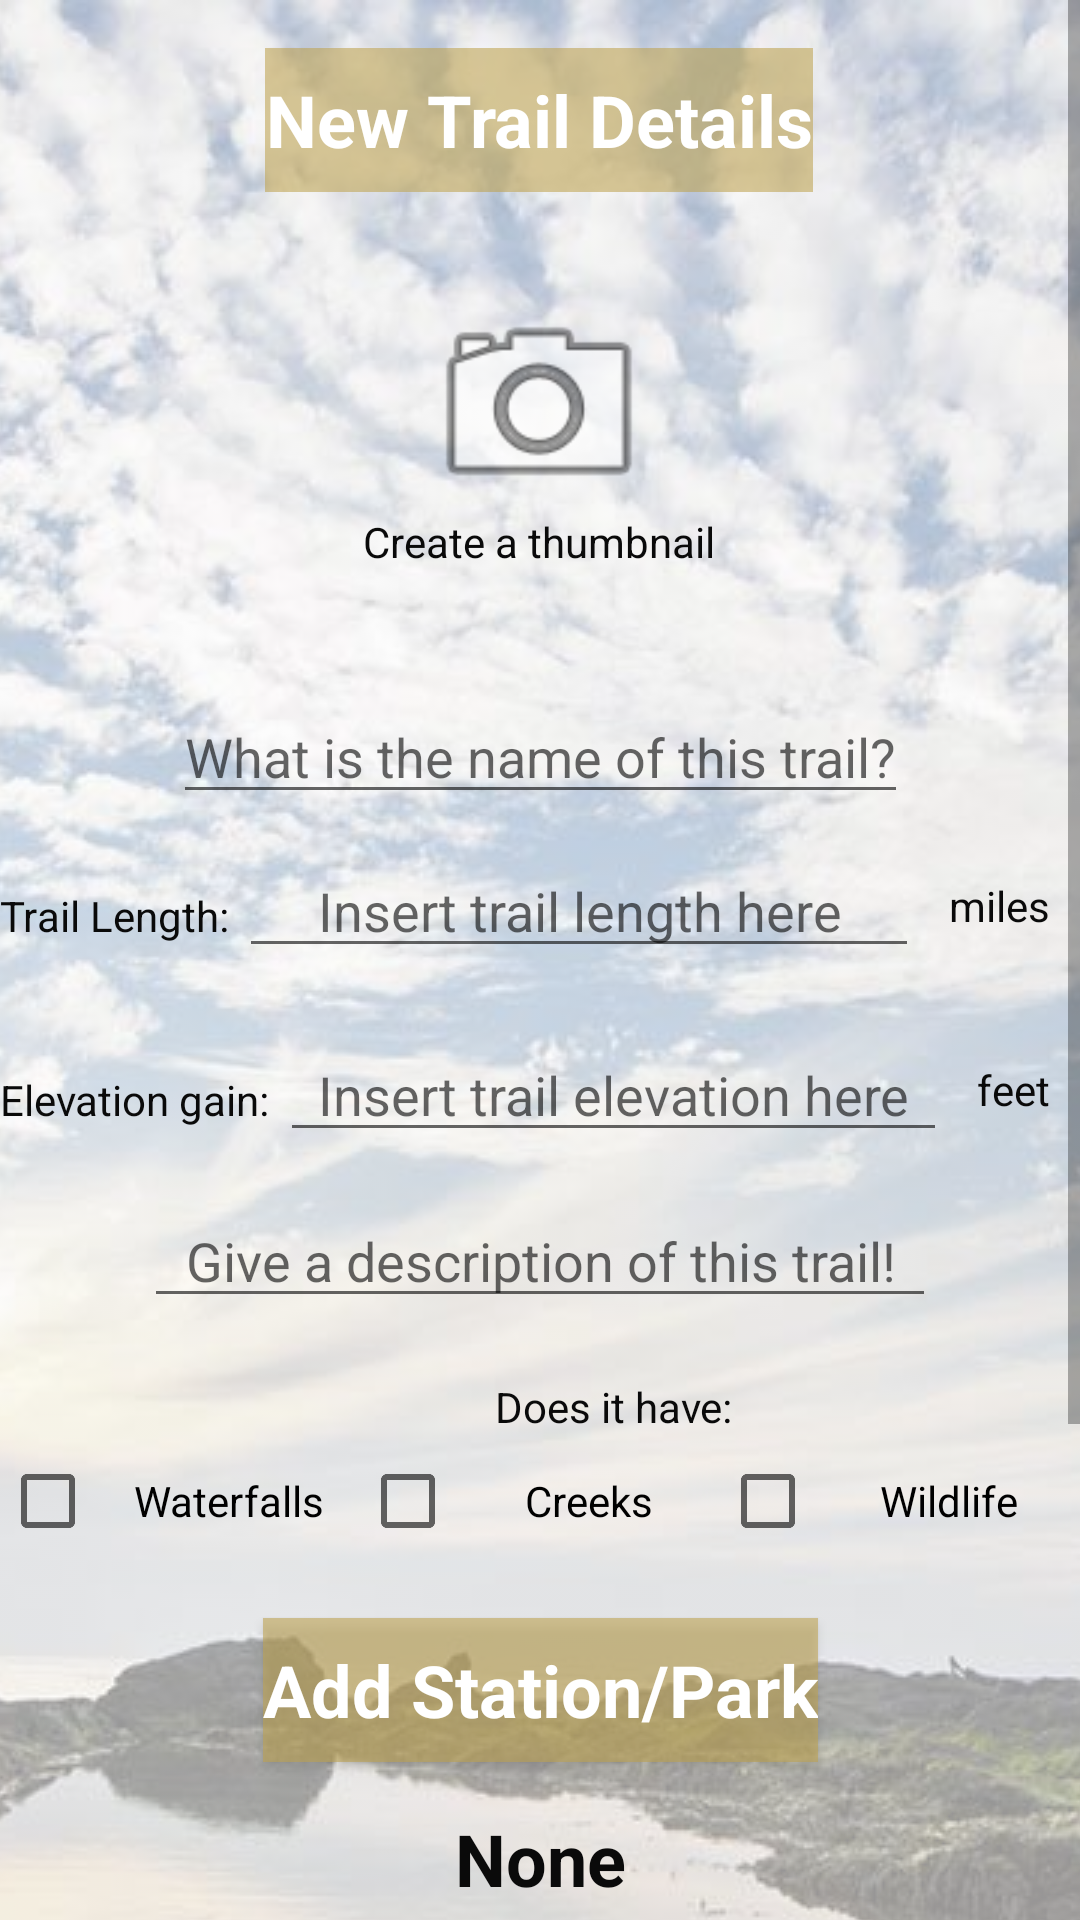

Screen size 1080 x 1920. Icon name, then its center in pixels as point (x, y):
camera: point (539, 403)
